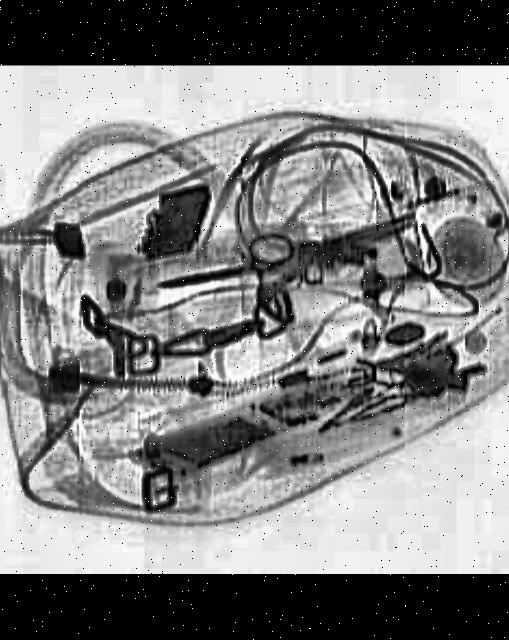Scissors: (151, 227, 302, 312)
